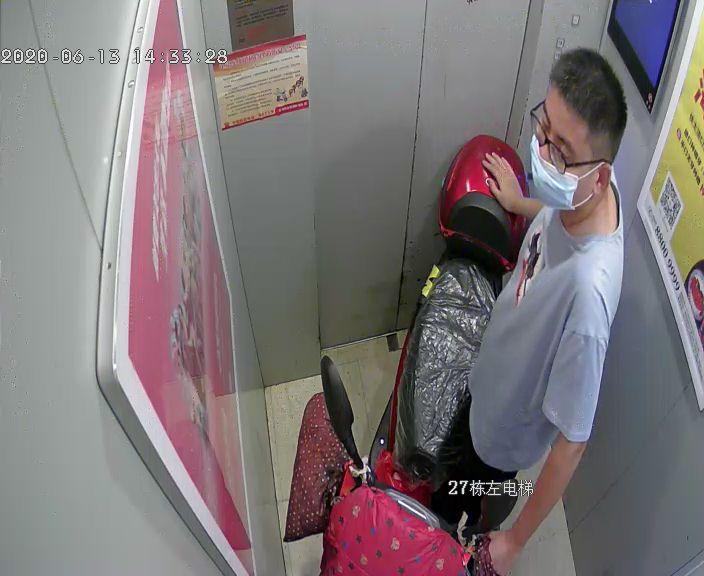Electric-bicycle: (373, 140, 520, 517)
